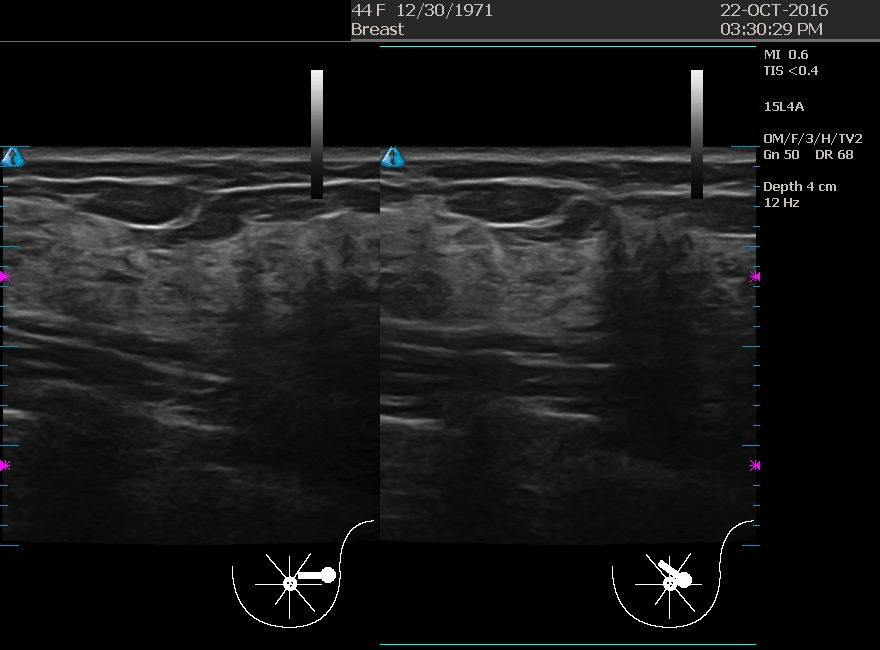BIRADS_3: (410, 150, 610, 350)
Benign: (34, 150, 234, 350)
